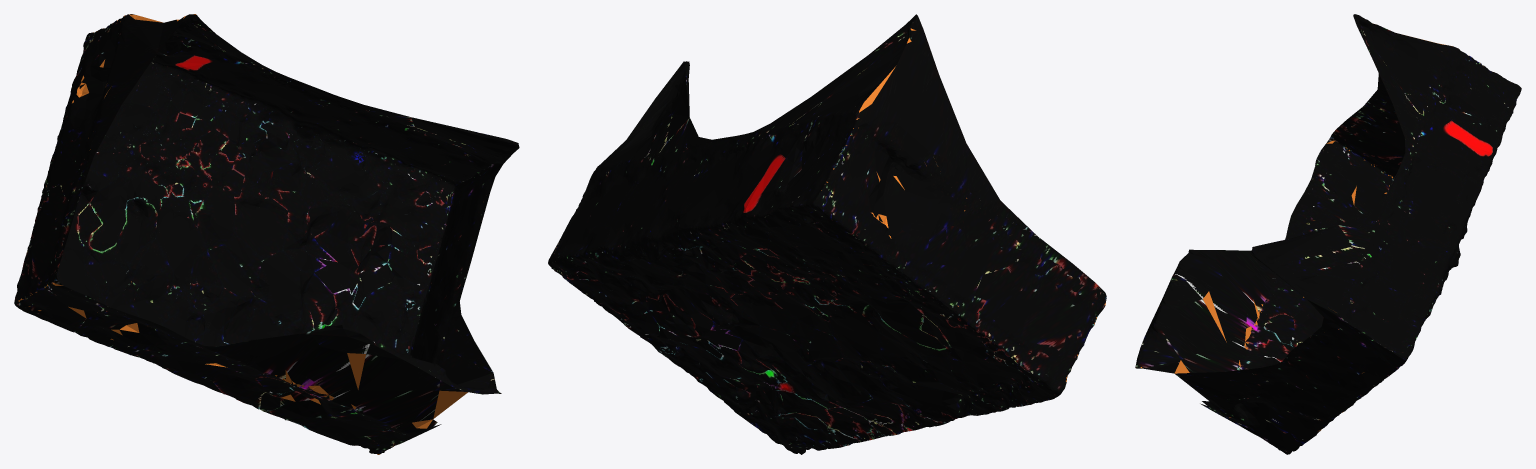
3 views of the same model, side by side, from view 1: azimuth 30°, elevation 25°; view 2: azimuth 150°, elevation 25°; view 3: azimuth 270°, elevation 25° (orthographic). The views are drawn at different scales.
Visible parts, largest first — view 1: scene_textured; view 2: scene_textured; view 3: scene_textured.
Part boxes in pixels (x1=…): scene_textured: x1=14, y1=14, x2=519, y2=454; scene_textured: x1=548, y1=14, x2=1106, y2=454; scene_textured: x1=1135, y1=14, x2=1521, y2=454.
Size of the model in its own units: 4.37 by 4.19 by 3.86.
Materials: 1 (1 with a texture image).
